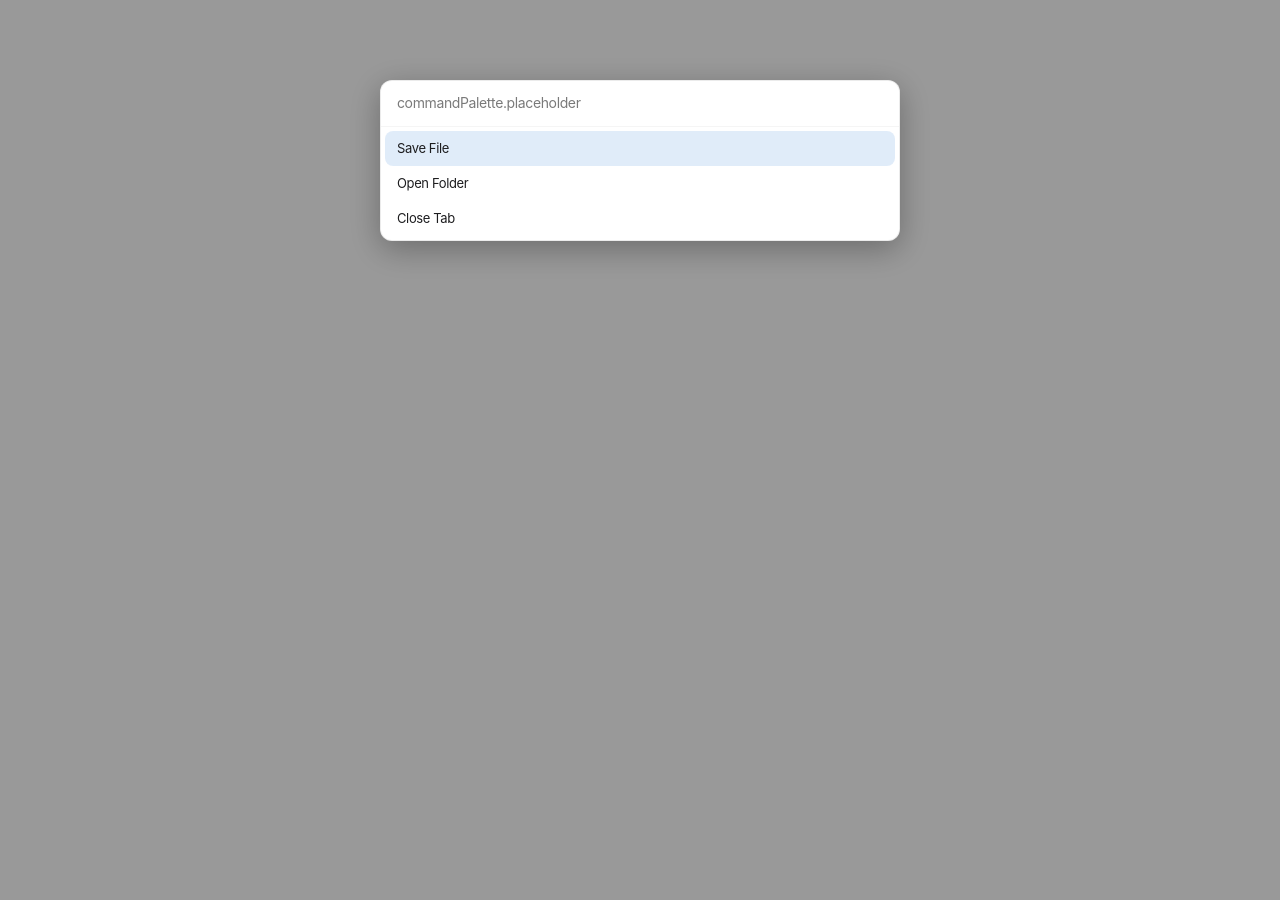
Test case: CommandPalette › 根据输入过滤命令（不区分大小写）
In the dropdown with class "command-palette__input": (640, 104) [381, 81, 899, 127], type "OPEN"
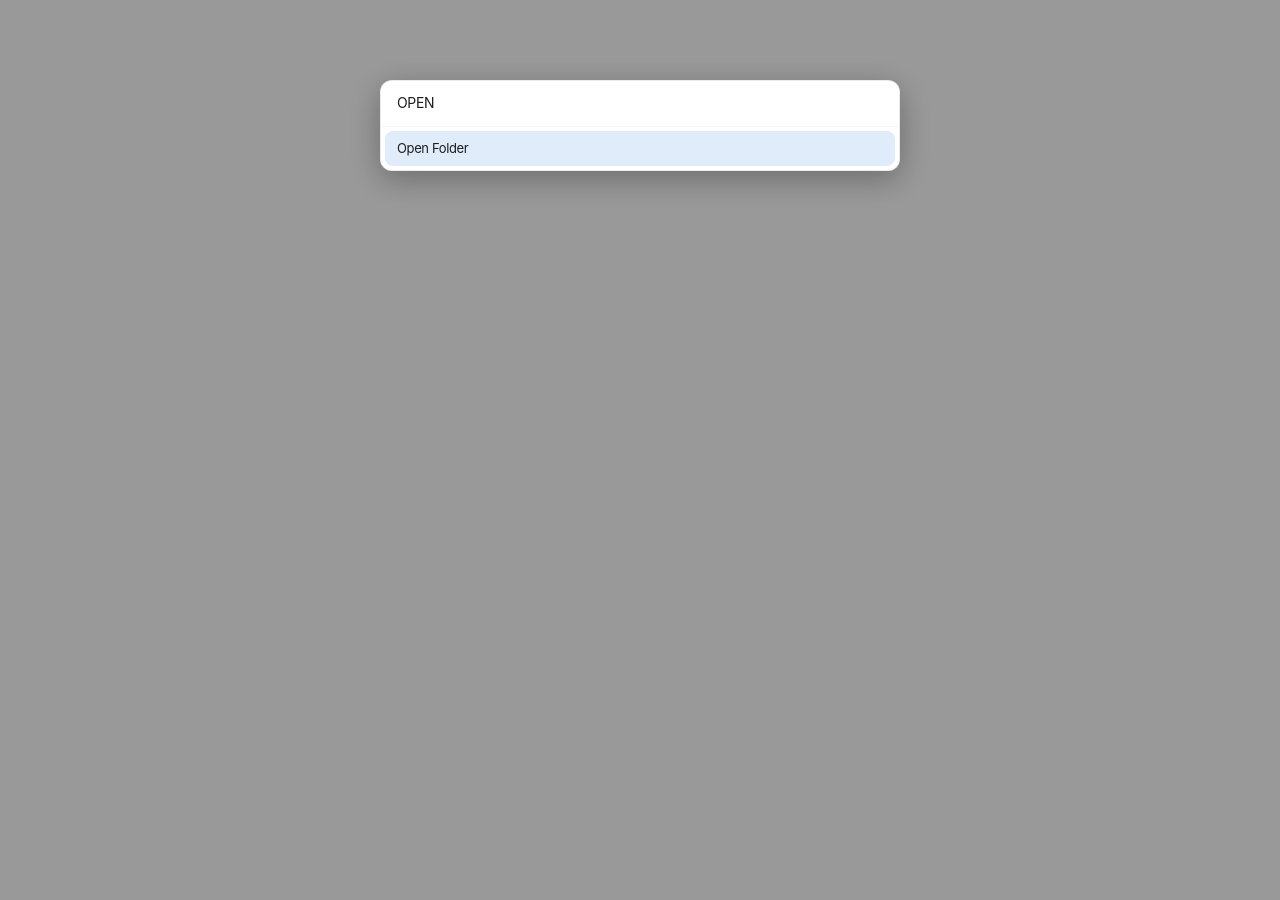
Expected: the option with class "command-palette__item" reads "Open Folder", [385, 131, 895, 166]
Result: the number of options with class "command-palette__item" is 1 at [385, 131, 895, 166]
